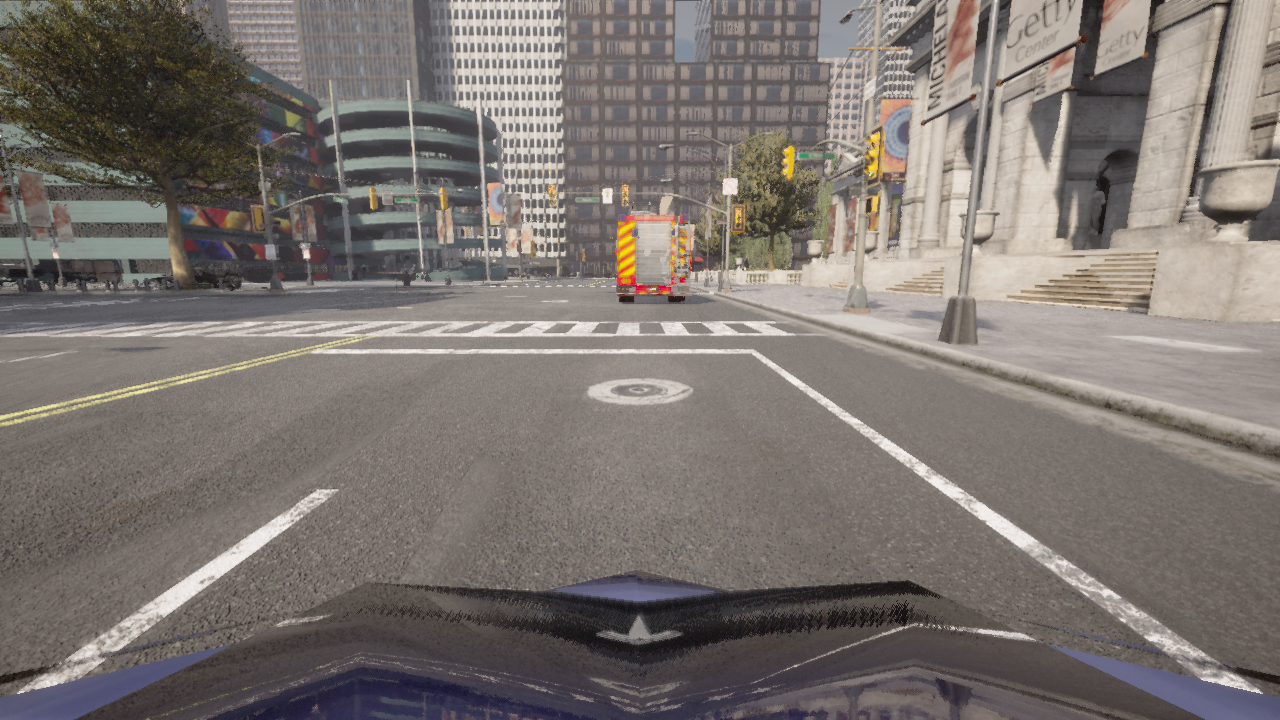cyclist: (0, 569, 1279, 719), (615, 201, 691, 302), (146, 268, 240, 290), (0, 262, 45, 289), (61, 270, 97, 282), (251, 267, 287, 272), (158, 271, 172, 273), (217, 269, 226, 272)
